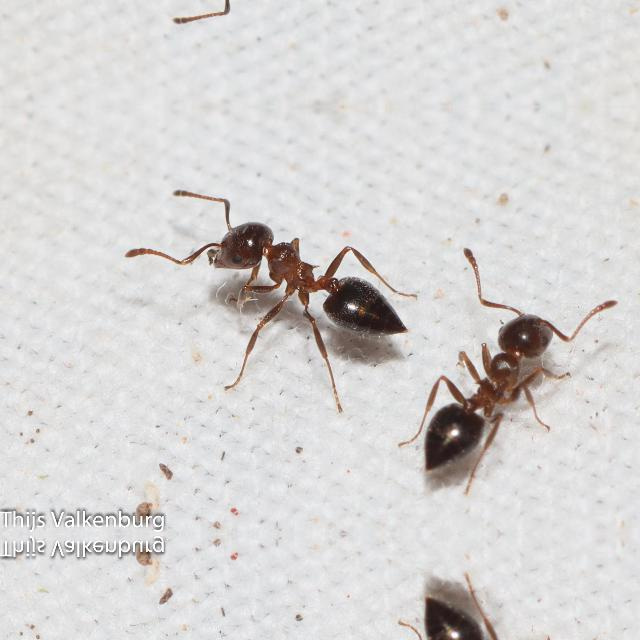Crematogaster: (195, 186, 405, 360), (404, 270, 574, 482), (404, 585, 574, 640)
